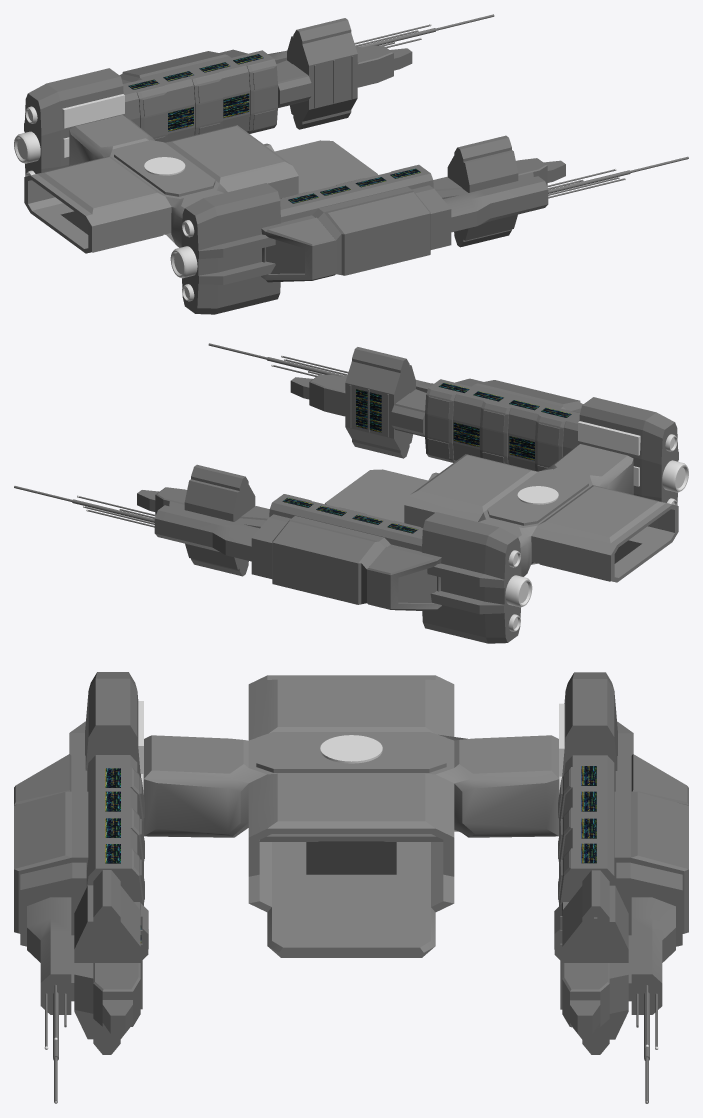
File: starbasealpha.fbx
The picture shows the model from 3 angles, top to bottom: view 1: azimuth 30°, elevation 25°; view 2: azimuth 150°, elevation 25°; view 3: azimuth 270°, elevation 25°; orthographic projection. The views are drawn at different scales.
Visible parts, largest first — view 1: Cube.072, Cube.002, Cube, Cube.003, Cylinder.001, Cube.014, Cylinder; view 2: Cube.002, Cube, Cube.072, Cube.003, Cylinder.001, Cube.079, Cylinder; view 3: Cube, Cube.072, Cube.002, Cube.026, Cube.003, Cylinder, Cube.001.
Boxes of the visible parts, x1,y1,x2,y2 form: Cube.072: (181, 135, 688, 314); Cube.002: (24, 14, 494, 174); Cube: (24, 115, 377, 253); Cube.003: (128, 54, 420, 203); Cylinder.001: (14, 106, 197, 301); Cube.014: (62, 94, 124, 157); Cylinder: (144, 157, 185, 175); Cube.002: (14, 464, 521, 643); Cube: (325, 444, 678, 582); Cube.072: (208, 343, 678, 502); Cube.003: (282, 383, 571, 533); Cylinder.001: (505, 434, 688, 631); Cube.079: (578, 421, 640, 486); Cylinder: (517, 486, 558, 504); Cube: (143, 675, 559, 957); Cube.072: (14, 672, 148, 1103); Cube.002: (554, 672, 688, 1103); Cube.026: (306, 841, 396, 874); Cube.003: (105, 766, 596, 943); Cylinder: (320, 735, 382, 763); Cube.001: (259, 834, 443, 841).
Bounding box in the file's own units: 262528 × 50830 × 189322.
